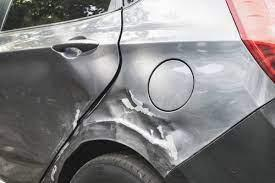doorouter-dent: (0, 22, 84, 146)
quaterpanel-dent: (114, 7, 221, 167)
